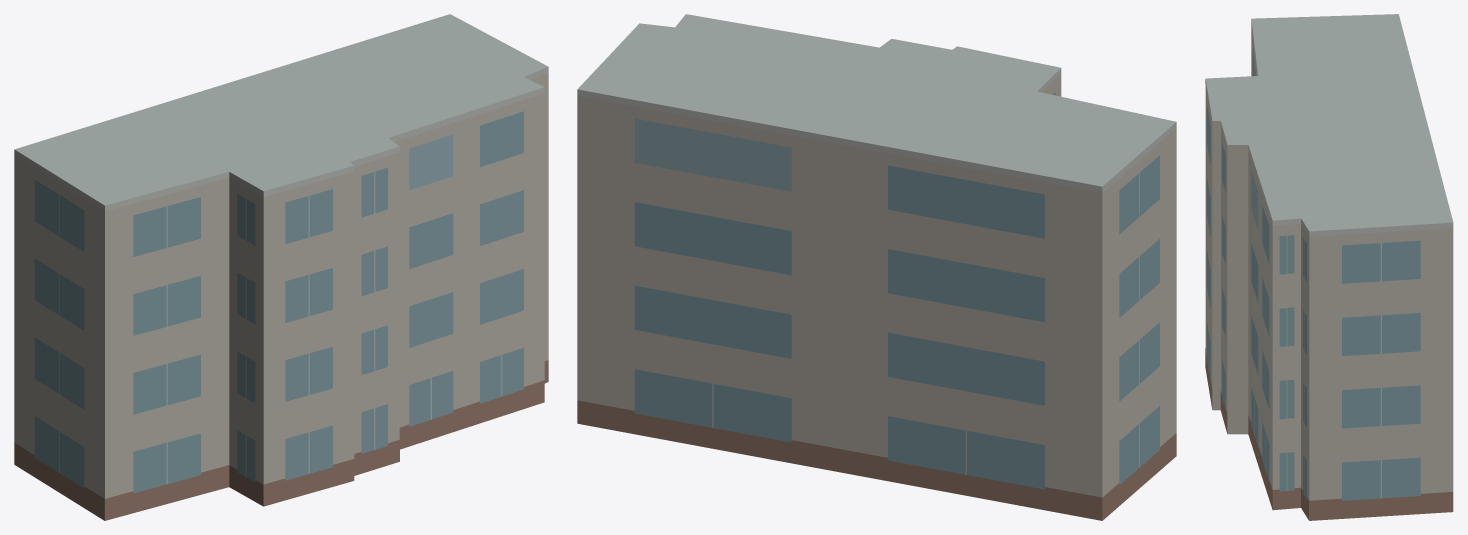
Rendered from survey-upis-32927200.glb.
3 renders of one model, left to right at view 1: azimuth 30°, elevation 25°; view 2: azimuth 150°, elevation 25°; view 3: azimuth 270°, elevation 25°, orthographic. The views are drawn at different scales.
Visible parts, largest first — view 1: survey-upis-32927200.tmp; view 2: survey-upis-32927200.tmp; view 3: survey-upis-32927200.tmp.
Part boxes in pixels (box(x1,y1,x2,y2)): survey-upis-32927200.tmp: box(14, 14, 548, 520); survey-upis-32927200.tmp: box(577, 14, 1176, 520); survey-upis-32927200.tmp: box(1205, 14, 1453, 520).
Bounding box in the file's own units: 20.96 × 13 × 10.1.
